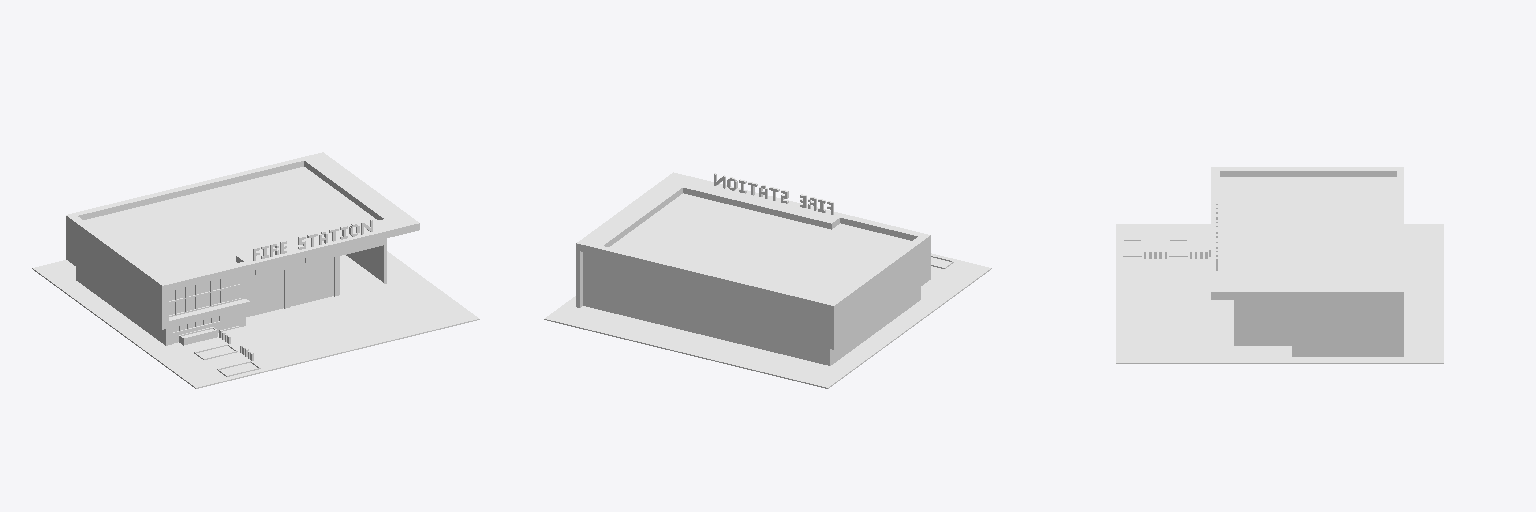
File: Fire_station.obj
The picture shows the model from 3 angles: view 1: azimuth 30°, elevation 25°; view 2: azimuth 150°, elevation 25°; view 3: azimuth 270°, elevation 25°; orthographic projection.
Visible parts, largest first — view 1: object 1; view 2: object 1; view 3: object 1.
Part boxes in pixels (bbox=[...]): object 1: bbox=[32, 152, 479, 388]; object 1: bbox=[544, 172, 991, 388]; object 1: bbox=[1116, 167, 1443, 363].
Bounding box in the file's own units: 25 × 6.5 × 25.